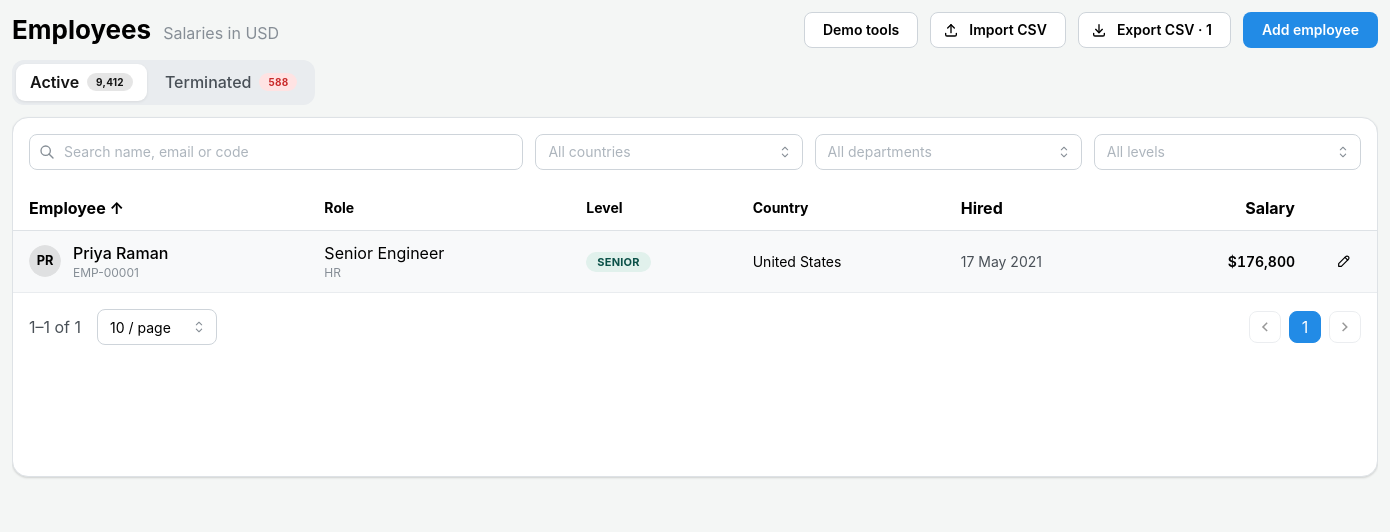
Scenario: EmployeesPage › sorts by a column and flips the direction on a second click
The image size is (1390, 532).
Expected: the text "Priya Raman" is shown, [73,241,168,265]
Click the button "Salary": (1270, 208) [1245,196,1295,221]
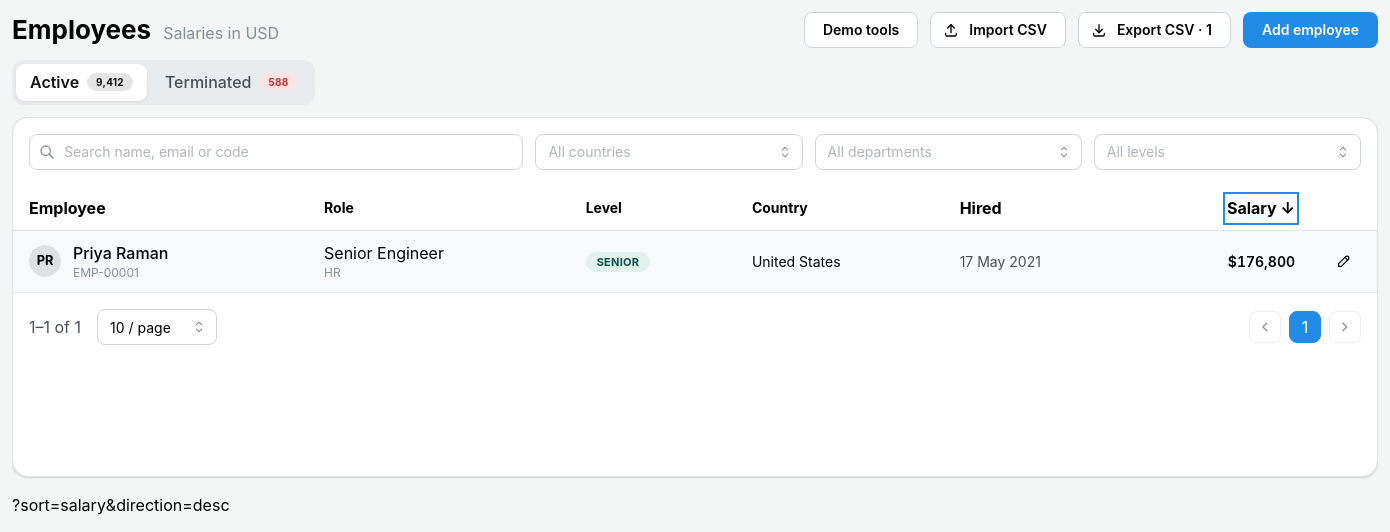
Click the button "Salary ↓": (1261, 208) [1227,196,1295,221]
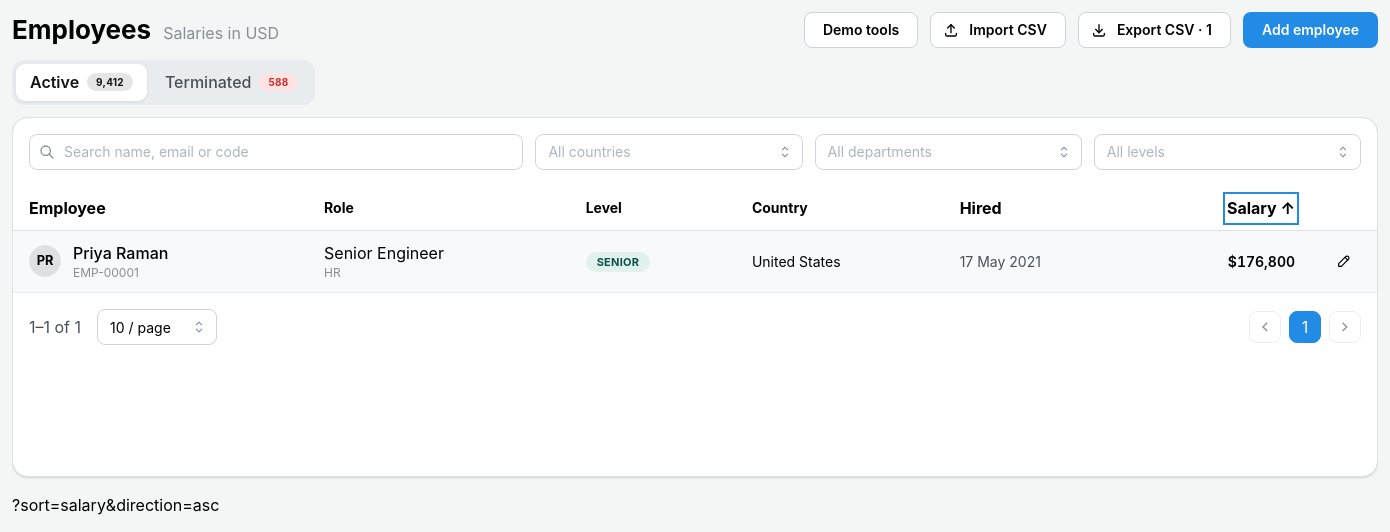
Expected: the text with test id "search" reads "?sort=salary&direction=asc", [12,495,219,515]
